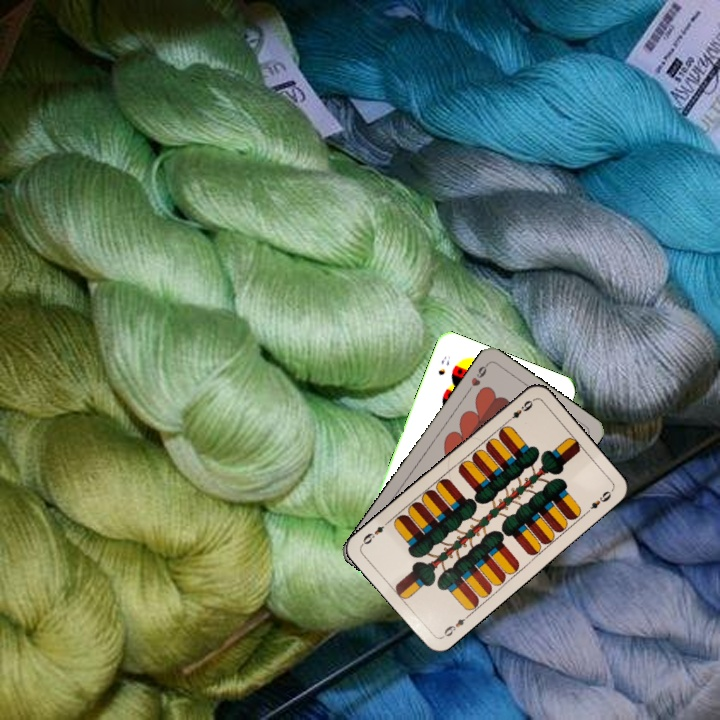E9: (502, 396, 536, 426), (438, 611, 472, 640)
H9: (463, 360, 490, 396)
S8: (434, 352, 453, 378)
